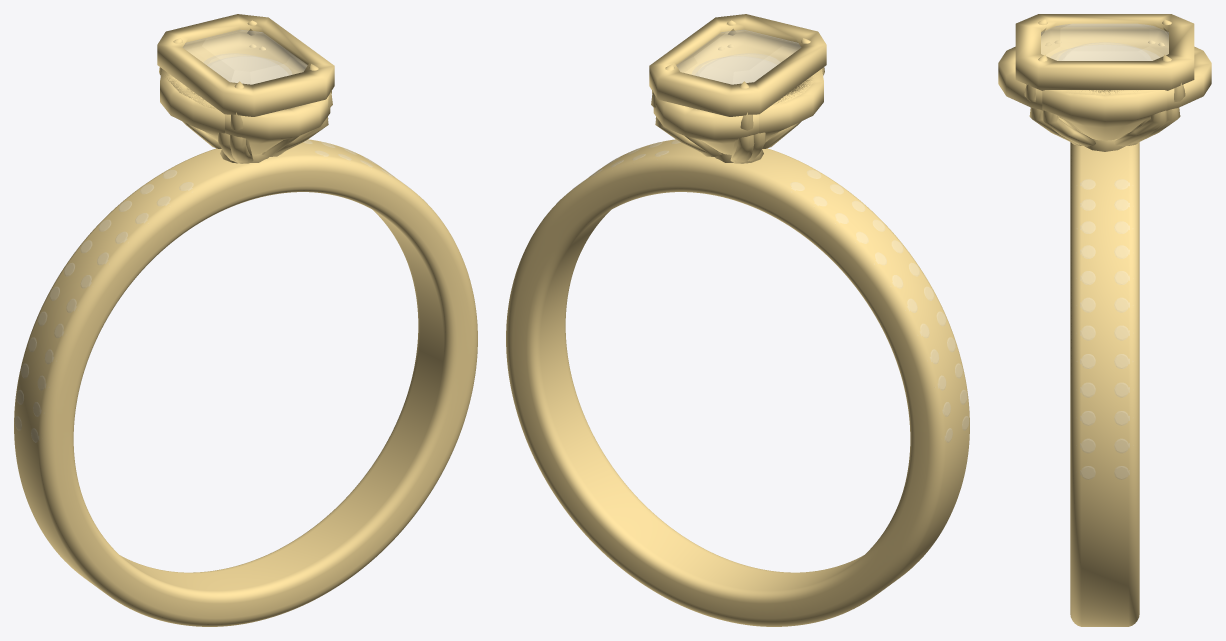
Rendered from ring.glb.
3 renders of one model, left to right at view 1: azimuth 30°, elevation 25°; view 2: azimuth 150°, elevation 25°; view 3: azimuth 270°, elevation 25°, orthographic.
Visible parts, largest first — view 1: band, bezel_emerald, stone_emerald, bezel_oval, pave, bezel_round, stone_oval, prongs_emerald, prongs_oval, stone_round; view 2: band, bezel_emerald, stone_emerald, bezel_oval, pave, bezel_round, stone_oval, stone_round, prongs_emerald, prongs_oval; view 3: band, bezel_emerald, stone_emerald, bezel_round, pave, bezel_oval, prongs_round, stone_oval, prongs_emerald, prongs_oval, stone_round, head.
Part boxes in pixels (x1,y1,x2,y2): band: (14,139,477,626); bezel_emerald: (157,14,334,116); stone_emerald: (183,30,307,84); bezel_oval: (164,70,330,154); pave: (15,140,439,442); bezel_round: (160,69,331,141); stone_oval: (204,54,284,83); prongs_emerald: (159,20,332,163); prongs_oval: (229,44,328,161); stone_round: (210,57,291,79); band: (506,139,969,626); bezel_emerald: (649,14,826,116); stone_emerald: (676,30,800,84); bezel_oval: (653,71,819,154); pave: (544,140,968,442); bezel_round: (652,69,823,141); stone_oval: (699,54,779,83); stone_round: (692,57,773,83); prongs_emerald: (651,20,824,163); prongs_oval: (655,44,754,161); band: (1070,142,1139,626); bezel_emerald: (1015,14,1194,90); stone_emerald: (1041,24,1168,60); bezel_round: (1042,90,1167,140); pave: (1080,179,1129,479); bezel_oval: (998,46,1211,134); prongs_round: (1042,39,1167,146); stone_oval: (1050,45,1159,60); prongs_emerald: (1024,19,1185,145); prongs_oval: (1029,42,1180,142); stone_round: (1065,43,1142,60); head: (1085,139,1124,151).
Size of the model in its own units: 1.48 by 1.8 by 0.6149.
